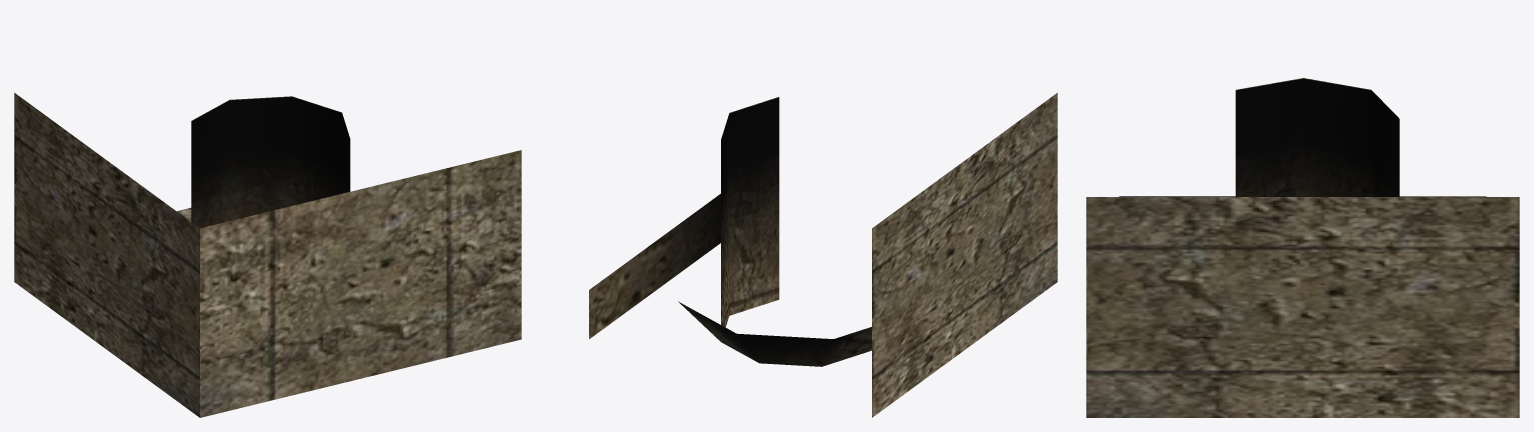
The picture shows the model from 3 angles, left to right: view 1: azimuth 30°, elevation 25°; view 2: azimuth 150°, elevation 25°; view 3: azimuth 270°, elevation 25°; orthographic projection. The views are drawn at different scales.
Visible parts, largest first — view 1: model_Object52; view 2: model_Object52; view 3: model_Object52.
Part boxes in pixels (x1,y1,x2,y2): model_Object52: (14, 93, 521, 417); model_Object52: (589, 93, 1057, 417); model_Object52: (1086, 78, 1519, 417).
Bounding box in the file's own units: 1 × 0.6315 × 1.
Materials: 3 (3 with a texture image).
